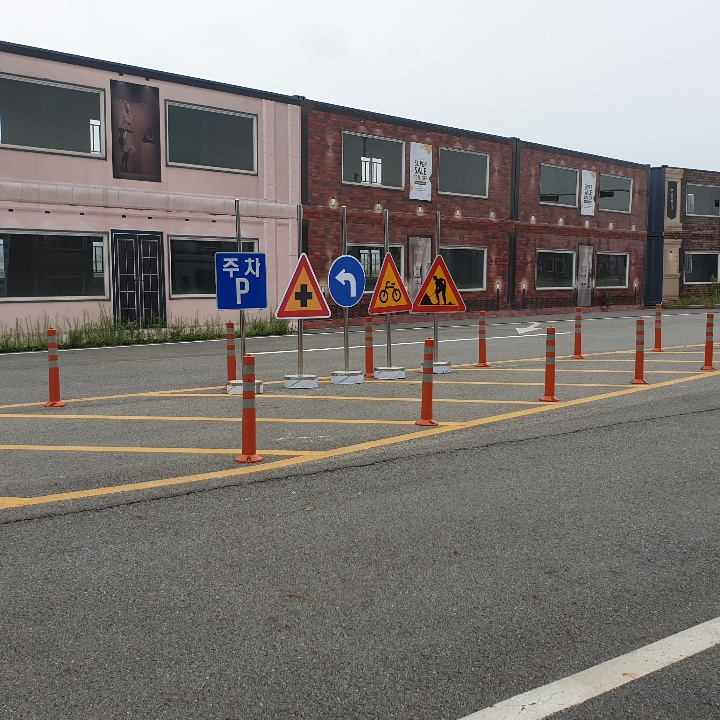bicycle: (371, 250, 414, 313)
const: (420, 268, 458, 306)
inter: (292, 279, 315, 309)
left: (331, 261, 359, 300)
parking: (230, 272, 252, 305)
